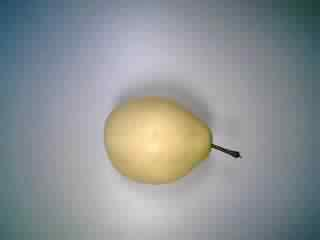pear: (98, 89, 245, 190)
